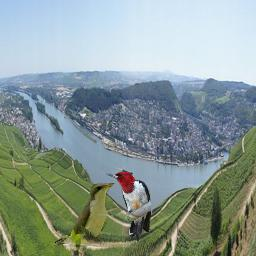Cuckoo: (54, 181, 116, 254)
Woodpecker: (106, 171, 151, 243)
